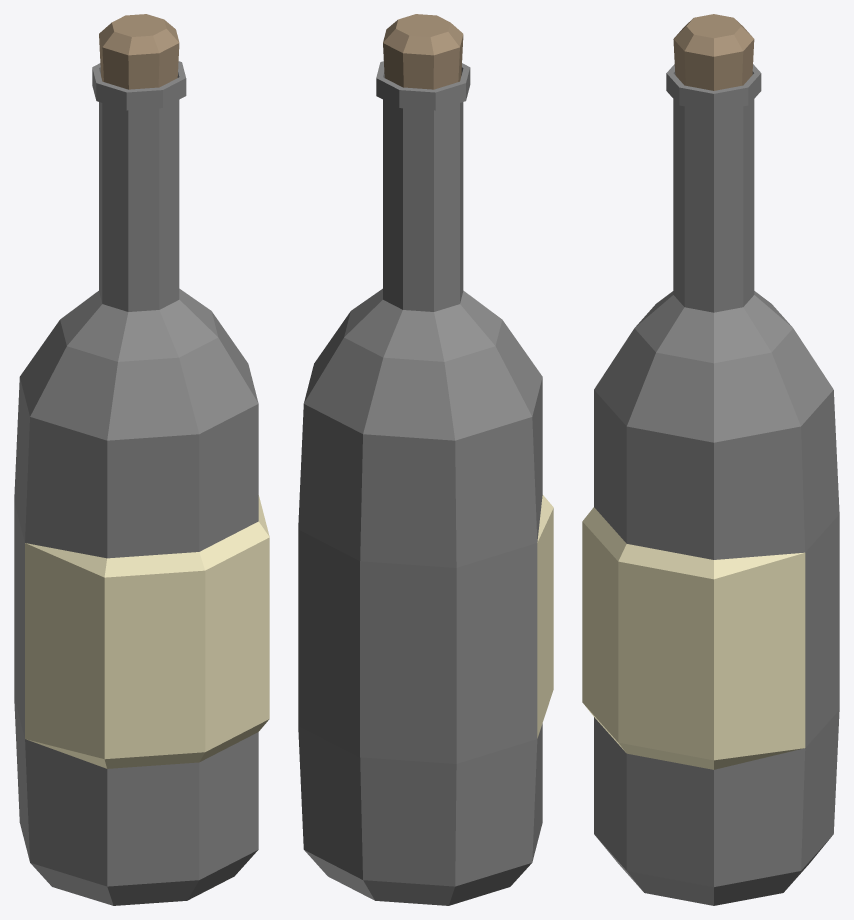
File: Vodka.fbx
3 views of the same model, side by side, from view 1: azimuth 30°, elevation 25°; view 2: azimuth 150°, elevation 25°; view 3: azimuth 270°, elevation 25° (orthographic).
Visible parts, largest first — view 1: Vodka; view 2: Vodka; view 3: Vodka.
Part boxes in pixels (x1,y1,x2,y2): Vodka: [14, 14, 269, 905]; Vodka: [298, 14, 553, 905]; Vodka: [582, 14, 839, 905].
Bounding box in the file's own units: 7.28 × 25.06 × 6.98.
